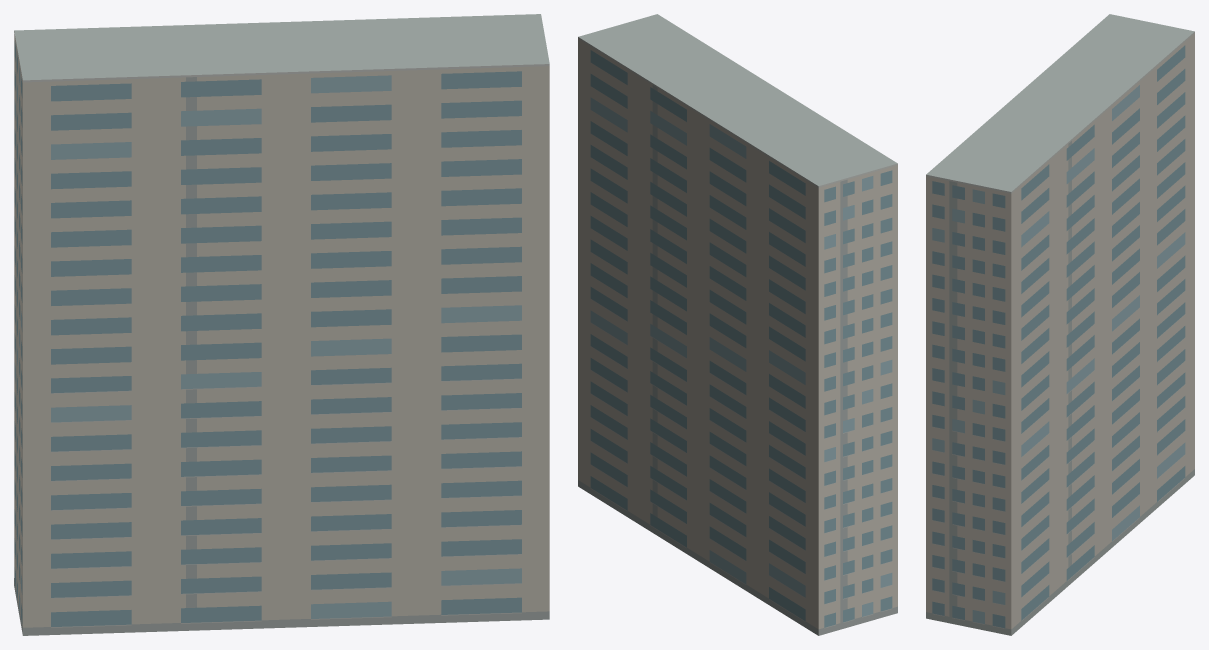
The model's file is residential-ad1274a6-4a91-4a3a-930e-893bd3a9d9aa.glb.
3 views of the same model, side by side, from view 1: azimuth 30°, elevation 25°; view 2: azimuth 150°, elevation 25°; view 3: azimuth 270°, elevation 25° (orthographic). The views are drawn at different scales.
Visible parts, largest first — view 1: residential-ad1274a6-4a91-4a3a-930e-893bd3a9d9aa.tmp; view 2: residential-ad1274a6-4a91-4a3a-930e-893bd3a9d9aa.tmp; view 3: residential-ad1274a6-4a91-4a3a-930e-893bd3a9d9aa.tmp.
Boxes of the visible parts, x1=… form: residential-ad1274a6-4a91-4a3a-930e-893bd3a9d9aa.tmp: x1=14, y1=14, x2=549, y2=635; residential-ad1274a6-4a91-4a3a-930e-893bd3a9d9aa.tmp: x1=578, y1=14, x2=897, y2=635; residential-ad1274a6-4a91-4a3a-930e-893bd3a9d9aa.tmp: x1=926, y1=14, x2=1194, y2=635.
Size of the model in its own units: 56.78 by 66 by 36.25.
